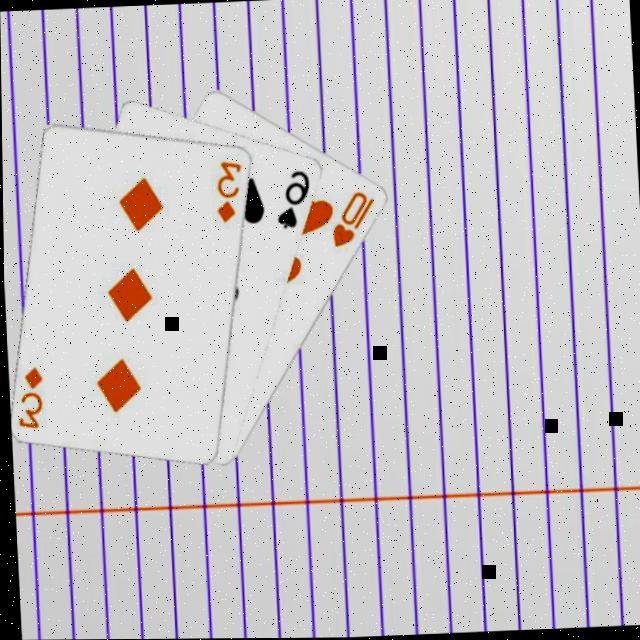10H: (326, 190, 379, 252)
3D: (212, 158, 248, 228), (12, 364, 47, 433)
6S: (272, 168, 315, 234)
